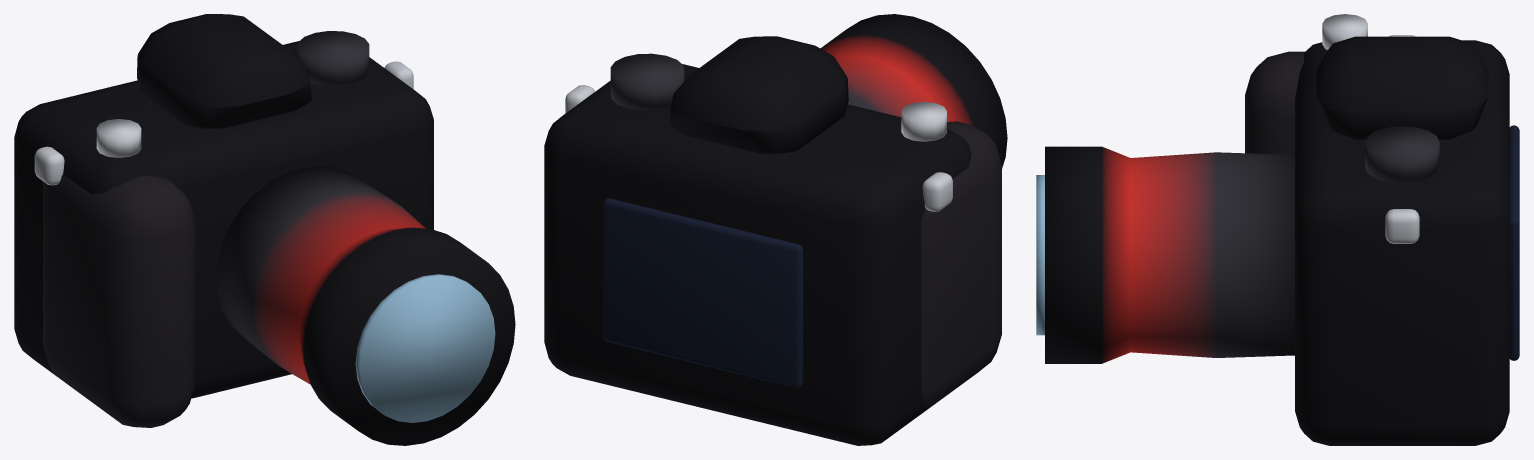
The model's file is camera_dslr.glb.
The picture shows the model from 3 angles, left to right: view 1: azimuth 30°, elevation 25°; view 2: azimuth 150°, elevation 25°; view 3: azimuth 270°, elevation 25°; orthographic projection. The views are drawn at different scales.
Parts seen in each view (by area): view 1: camera_dslr; view 2: camera_dslr, screen; view 3: camera_dslr, screen.
Boxes of the visible parts, bbox=[...] form: camera_dslr: bbox=[14, 14, 515, 445]; camera_dslr: bbox=[544, 14, 1007, 445]; screen: bbox=[603, 198, 803, 387]; camera_dslr: bbox=[1036, 14, 1509, 445]; screen: bbox=[1509, 125, 1519, 360].
Bounding box in the file's own units: 0.152 × 0.125 × 0.169.
